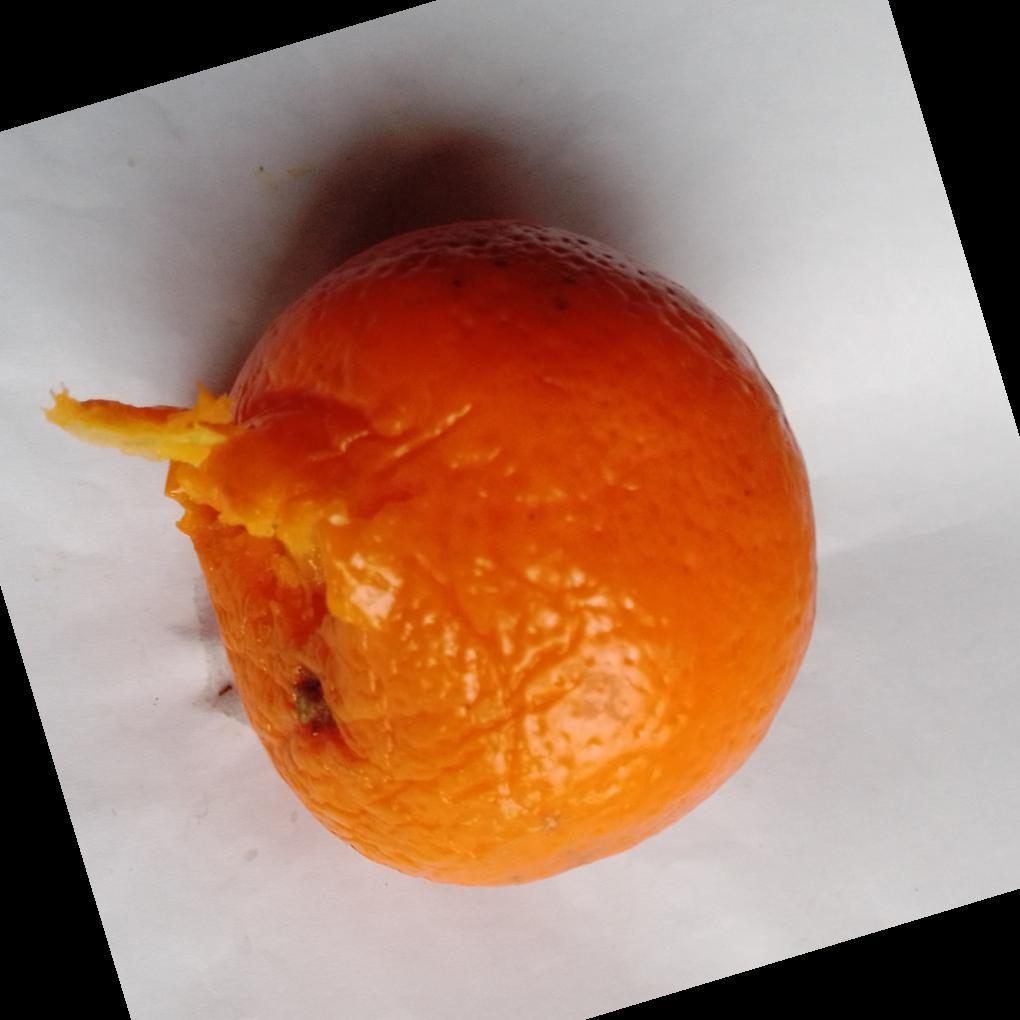FreshOrange: (43, 220, 819, 892)
